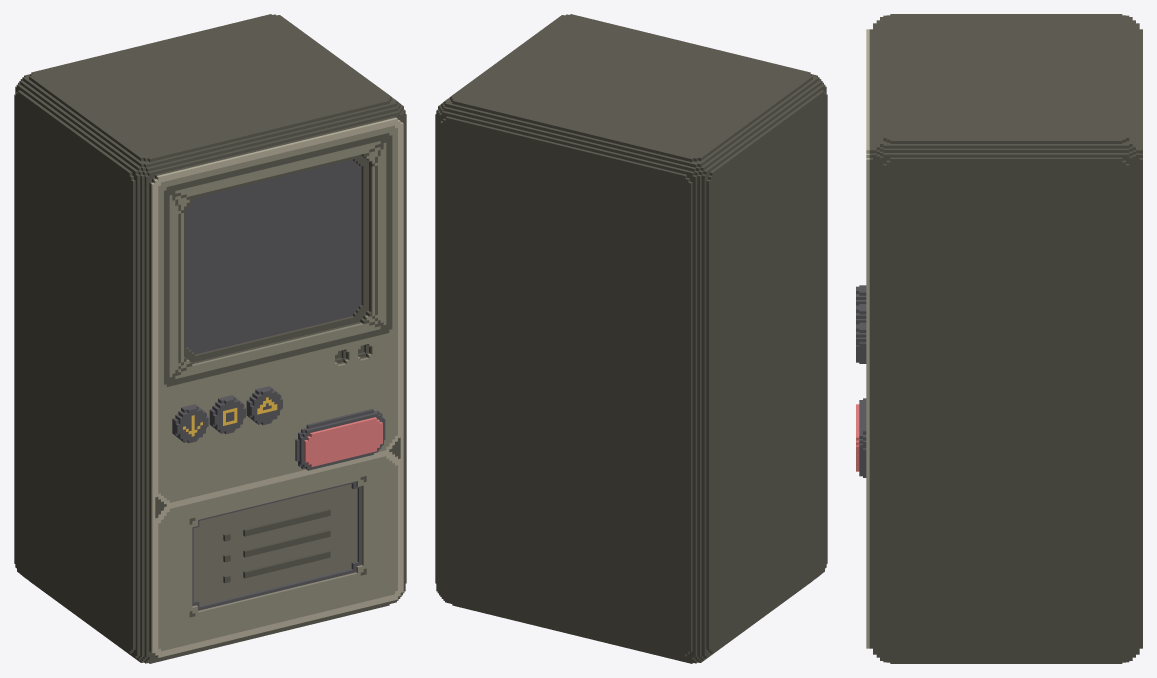
File: factory4.4-21.obj
3 views of the same model, side by side, from view 1: azimuth 30°, elevation 25°; view 2: azimuth 150°, elevation 25°; view 3: azimuth 270°, elevation 25° (orthographic). The views are drawn at different scales.
Bounding box in the file's own units: 9.6 × 16.9 × 8.4.
Materials: 1 (1 with a texture image).
